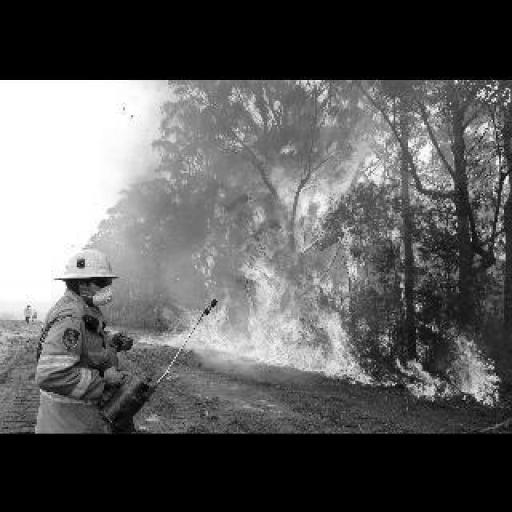smoke: (186, 82, 499, 406)
